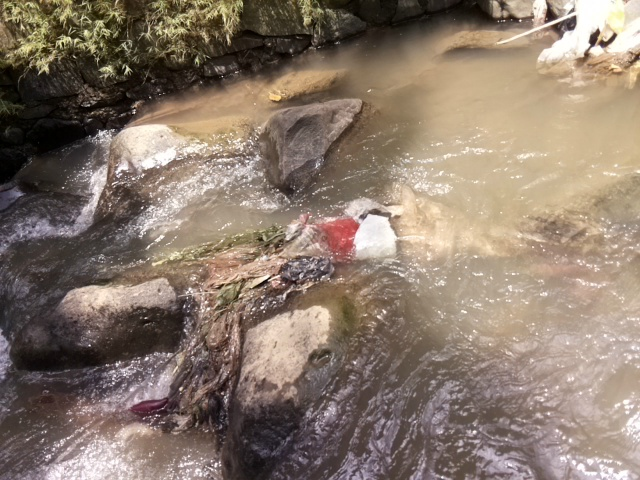Sampah_Plastik: (126, 199, 419, 416)
